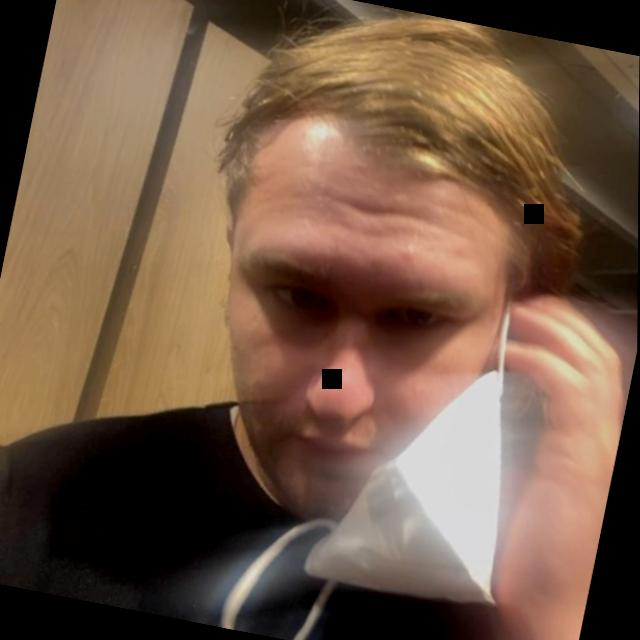NO-Mask: (132, 0, 594, 579)
